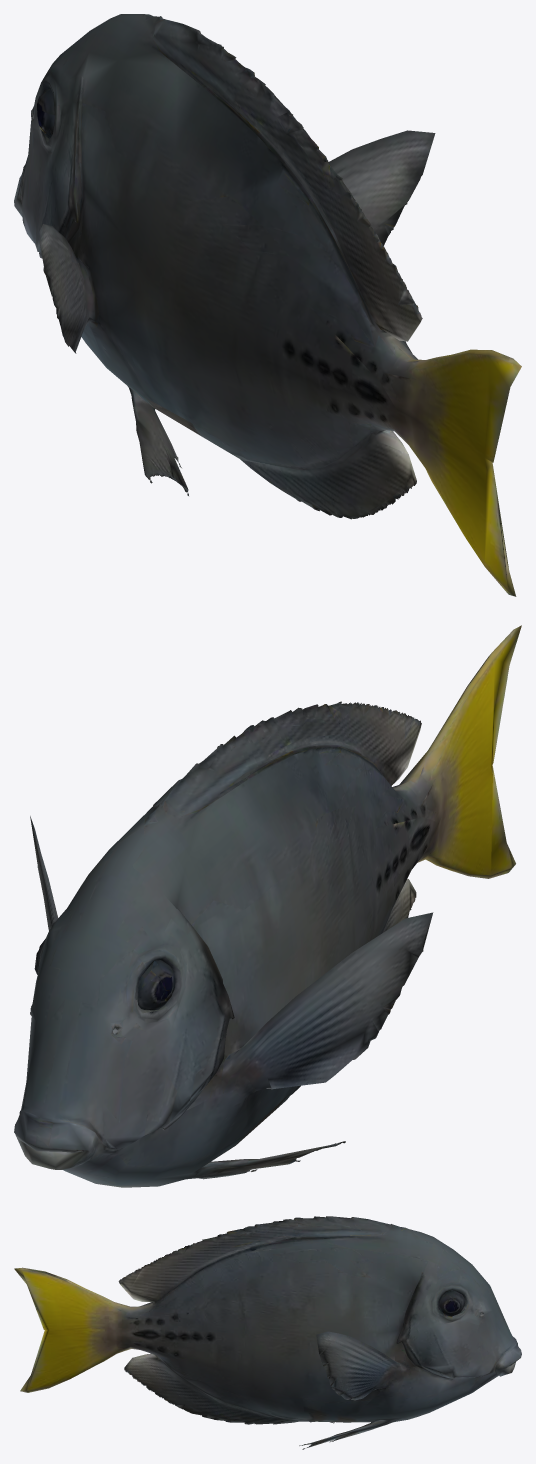
File: geelstaart_dokter.glb
3 renders of one model, top to bottom at view 1: azimuth 30°, elevation 25°; view 2: azimuth 150°, elevation 25°; view 3: azimuth 270°, elevation 25°, orthographic. The views are drawn at different scales.
Visible parts, largest first — view 1: tripo_node_40891c05-e90d-4076-b253-9388c3e35836; view 2: tripo_node_40891c05-e90d-4076-b253-9388c3e35836; view 3: tripo_node_40891c05-e90d-4076-b253-9388c3e35836.
Part boxes in pixels (box(x1,y1,x2,y2)): tripo_node_40891c05-e90d-4076-b253-9388c3e35836: box(14, 14, 521, 596); tripo_node_40891c05-e90d-4076-b253-9388c3e35836: box(14, 625, 521, 1187); tripo_node_40891c05-e90d-4076-b253-9388c3e35836: box(14, 1216, 521, 1449).
Bounding box in the file's own units: 0.3 × 0.3 × 0.6309.
1 material, 1 textured.
